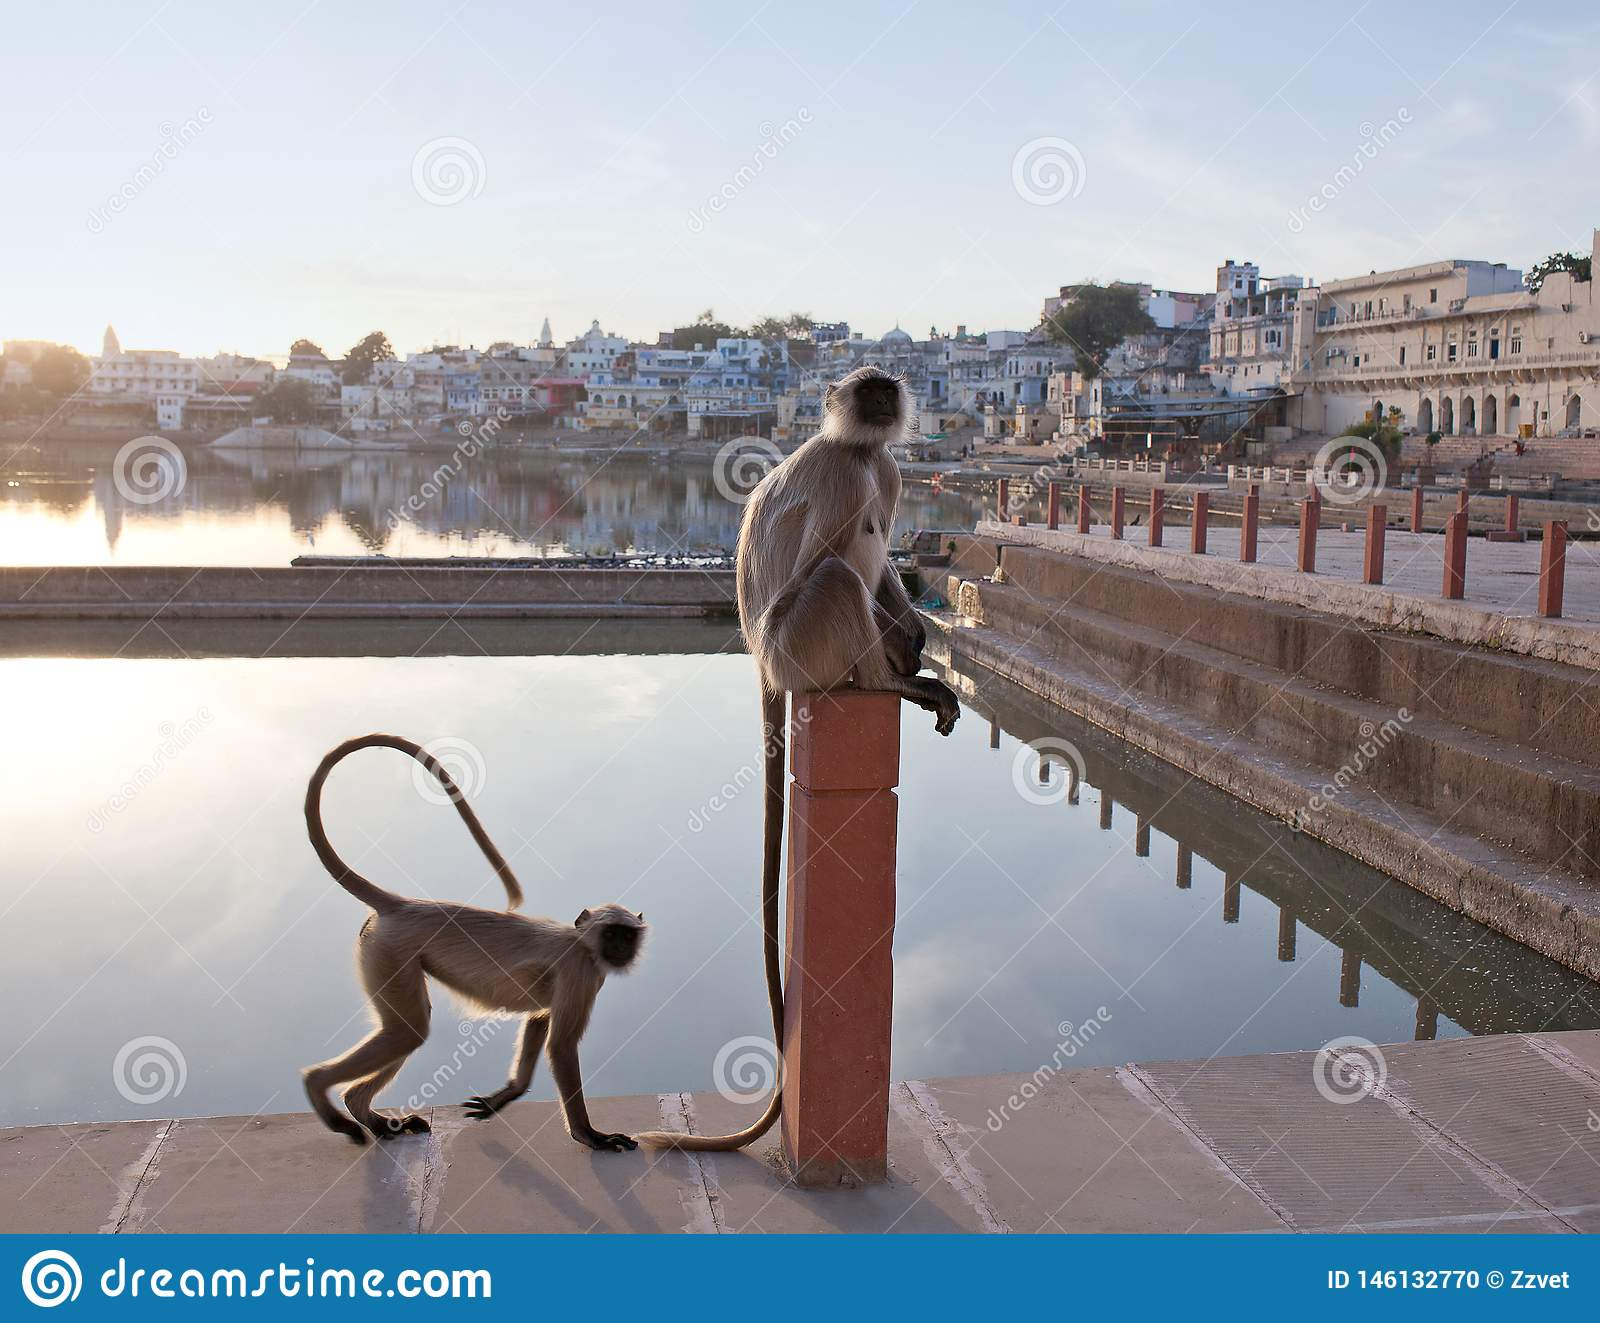human: (728, 358, 985, 1172)
monkey: (293, 708, 643, 1150)
